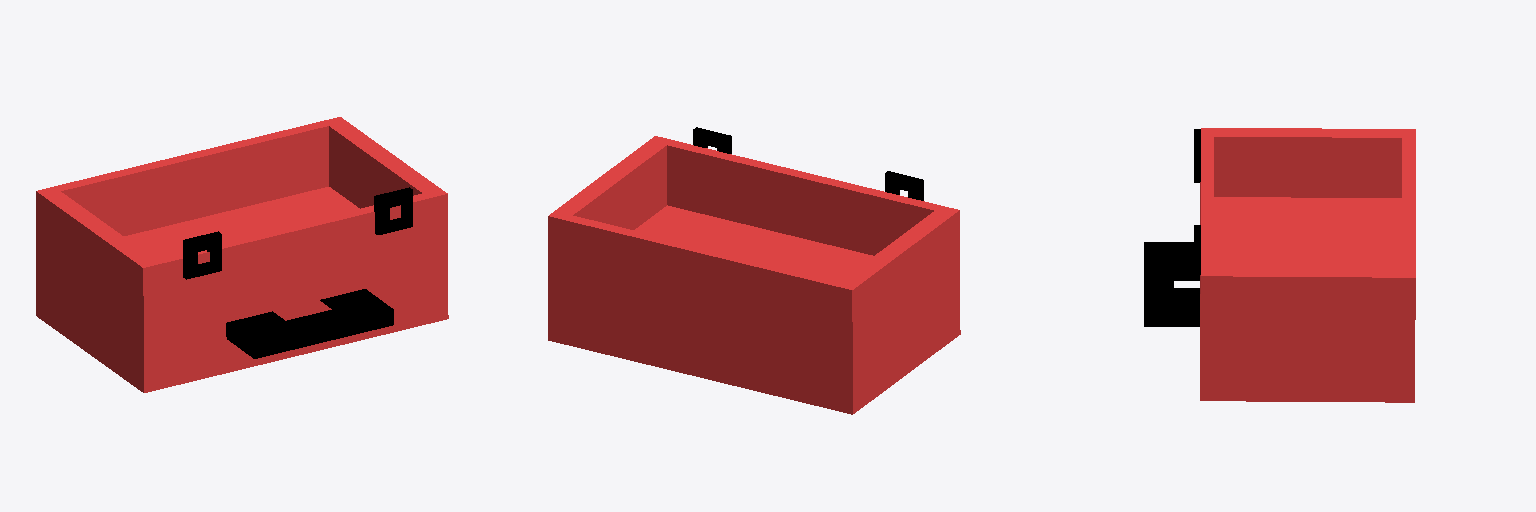
3 views of the same model, side by side, from view 1: azimuth 30°, elevation 25°; view 2: azimuth 150°, elevation 25°; view 3: azimuth 270°, elevation 25° (orthographic).
Visible parts, largest first — view 1: basePokeBotiquin:pCube4; view 2: basePokeBotiquin:pCube4; view 3: basePokeBotiquin:pCube4.
Boxes of the visible parts, x1=… form: basePokeBotiquin:pCube4: x1=36, y1=117, x2=448, y2=392; basePokeBotiquin:pCube4: x1=548, y1=127, x2=960, y2=414; basePokeBotiquin:pCube4: x1=1144, y1=128, x2=1415, y2=402.
Bounding box in the file's own units: 1.86 × 0.8435 × 1.43.
2 materials, 2 textured.